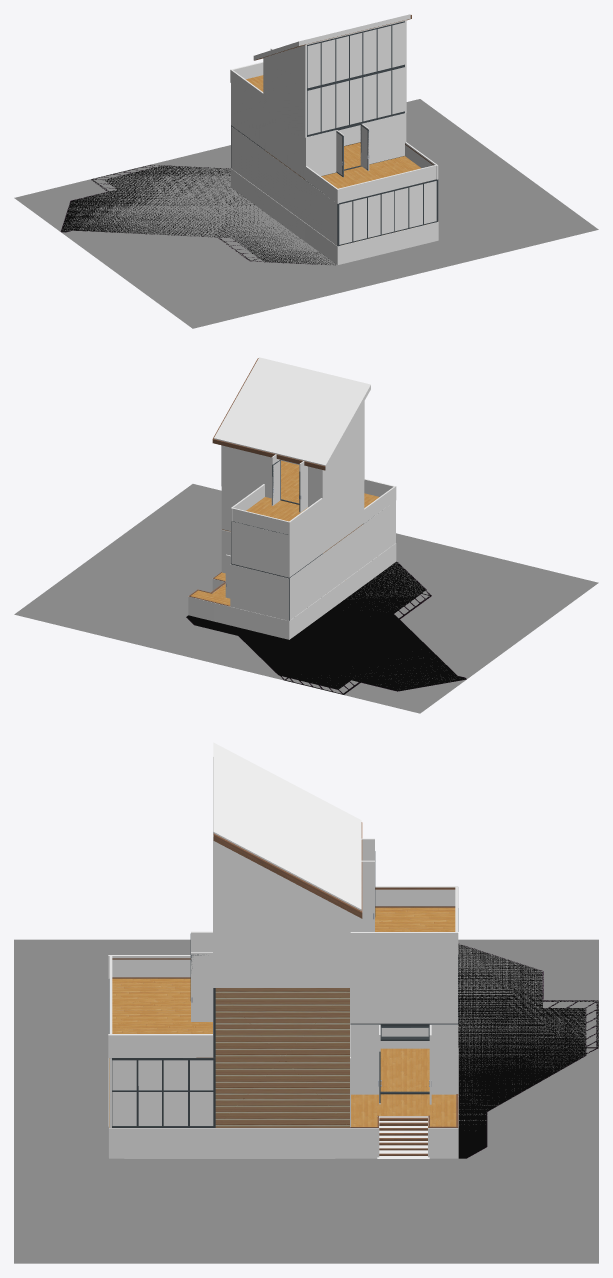
Rendered from zhuzhai_lingjiangtaibiesu01.FBX.
The picture shows the model from 3 angles, top to bottom: view 1: azimuth 30°, elevation 25°; view 2: azimuth 150°, elevation 25°; view 3: azimuth 270°, elevation 25°; orthographic projection. The views are drawn at different scales.
Parts seen in each view (by area): view 1: Plane001, box_2l, shadow, Box001, Box010, box_1l, Box009, Box003, floor_2l, wall_3l002, wall_1l, Box005 (+2 smaller); view 2: Plane001, shadow, Box_wd, box_2l, Box010, box_1l, Box013, Box003, Box002, Box005, floor_3l, wall_wd (+1 smaller); view 3: Plane001, shadow, Box006, box_2l, wall_1l, Box_wd, box_1l, wall_2l, Box011, floor_1l, floor_2l, Box005 (+5 smaller).
Part boxes in pixels (<box>): Plane001: <box>14,99,598,328</box>; box_2l: <box>231,83,438,203</box>; shadow: <box>60,165,335,265</box>; Box001: <box>306,20,405,134</box>; Box010: <box>231,126,337,245</box>; box_1l: <box>230,168,438,265</box>; Box009: <box>339,181,436,244</box>; Box003: <box>263,44,306,137</box>; floor_2l: <box>321,142,420,188</box>; wall_3l002: <box>287,21,404,136</box>; wall_1l: <box>231,126,438,246</box>; Box005: <box>230,62,263,106</box>; Plane001: <box>14,484,598,713</box>; shadow: <box>186,561,466,694</box>; Box_wd: <box>214,357,370,469</box>; box_2l: <box>221,479,396,577</box>; Box010: <box>290,500,395,620</box>; box_1l: <box>188,543,396,639</box>; Box013: <box>230,564,289,620</box>; Box003: <box>322,401,364,510</box>; Box002: <box>221,445,271,498</box>; Box005: <box>230,484,322,535</box>; floor_3l: <box>246,460,307,521</box>; wall_wd: <box>212,358,325,470</box>; Plane001: <box>14,939,598,1263</box>; shadow: <box>458,943,598,1158</box>; Box006: <box>213,835,347,987</box>; box_2l: <box>108,931,457,1057</box>; wall_1l: <box>109,979,458,1155</box>; Box_wd: <box>213,742,361,910</box>; box_1l: <box>108,1024,458,1158</box>; wall_2l: <box>112,906,458,1057</box>; Box011: <box>112,1060,213,1125</box>; floor_1l: <box>109,1048,456,1127</box>; floor_2l: <box>112,978,212,1033</box>; Box005: <box>350,886,458,954</box>.
Size of the model in its own units: 3411 by 1622 by 2602.
5 materials, 2 textured.
